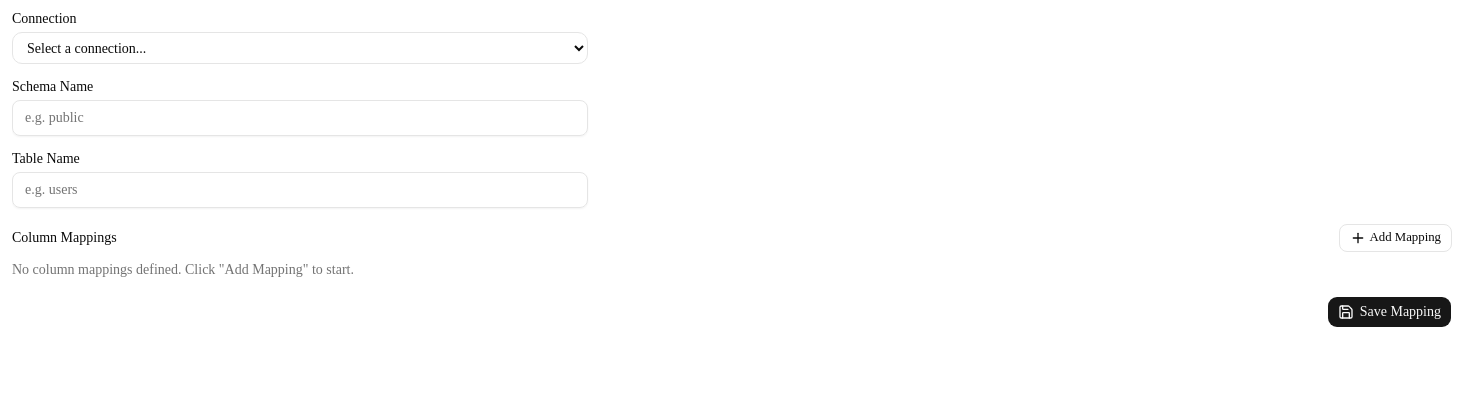
it: AssetMappingEditor › add mapping row button works
Click the button "Add Mapping" at (1395, 238), box [1338,224,1452,252]
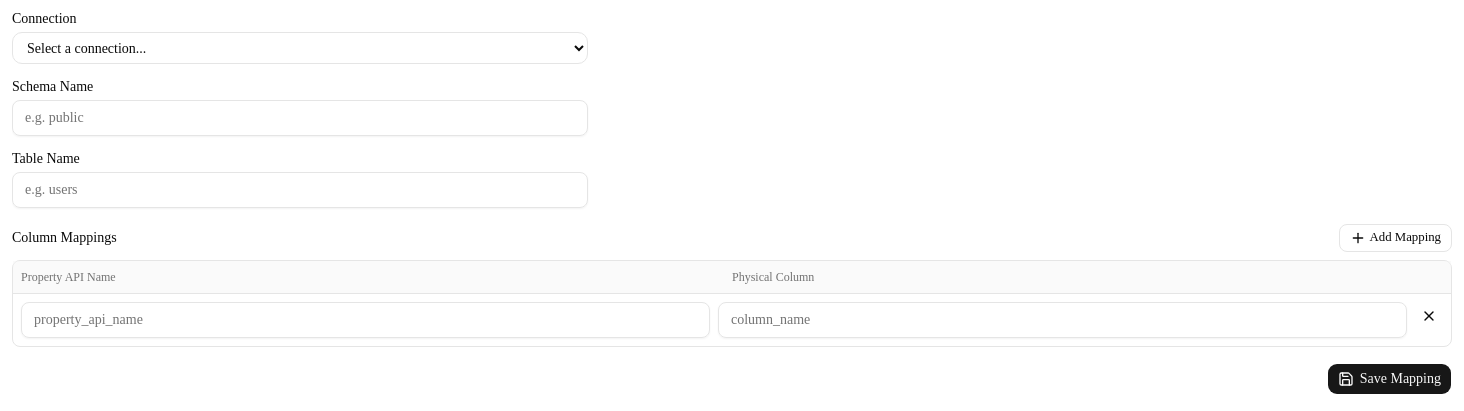
Expected: the field with placeholder "property_api_name" is shown, [21,302,710,338]
Expected: the field with placeholder "column_name" is shown, [718,302,1407,338]
